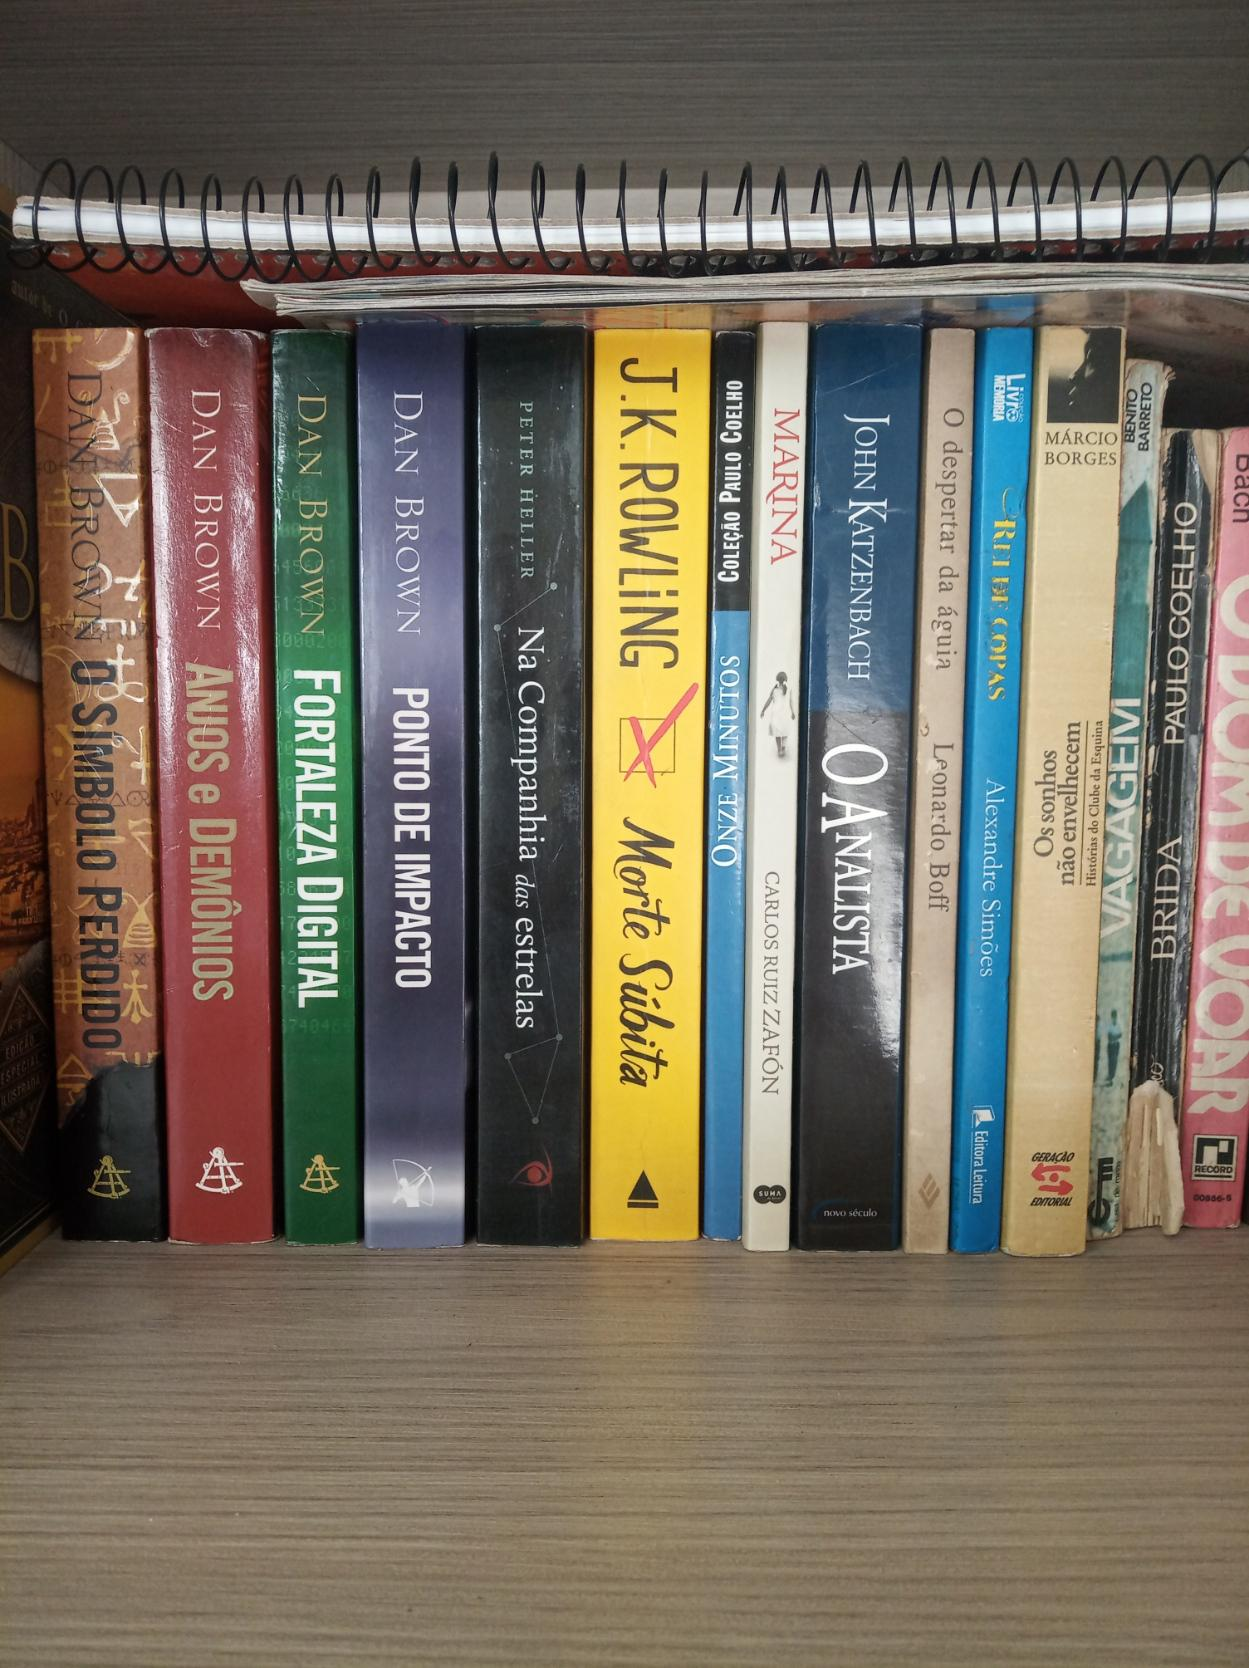book: (45, 334, 129, 1223), (274, 344, 358, 1233), (485, 344, 569, 1233), (174, 340, 258, 1227), (370, 342, 454, 1230), (604, 340, 687, 1227), (823, 328, 888, 1239), (1043, 330, 1107, 1241), (1131, 434, 1169, 1234), (712, 355, 743, 1217), (761, 336, 785, 1243), (924, 334, 947, 1239), (987, 334, 1009, 1238), (1223, 452, 1245, 1221)
